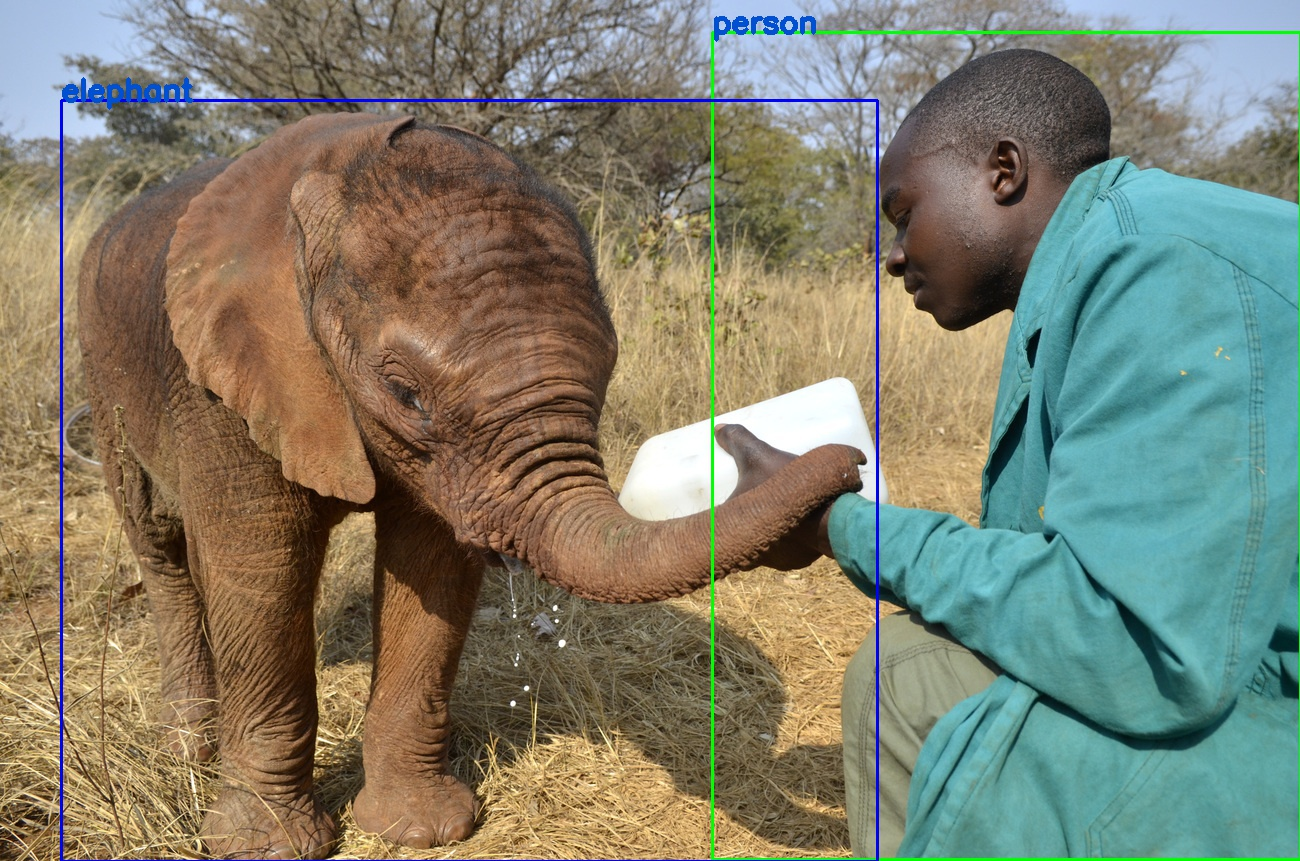elephant: (60, 99, 876, 861)
person: (711, 32, 1300, 859)
